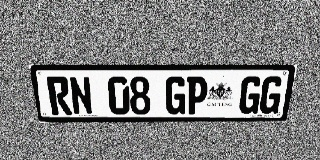0: (107, 76, 130, 115)
8: (129, 76, 151, 115)
G: (258, 76, 284, 114), (238, 76, 263, 114), (165, 76, 187, 114)
N: (68, 76, 94, 115)
P: (186, 76, 208, 114)
R: (46, 76, 72, 115)
